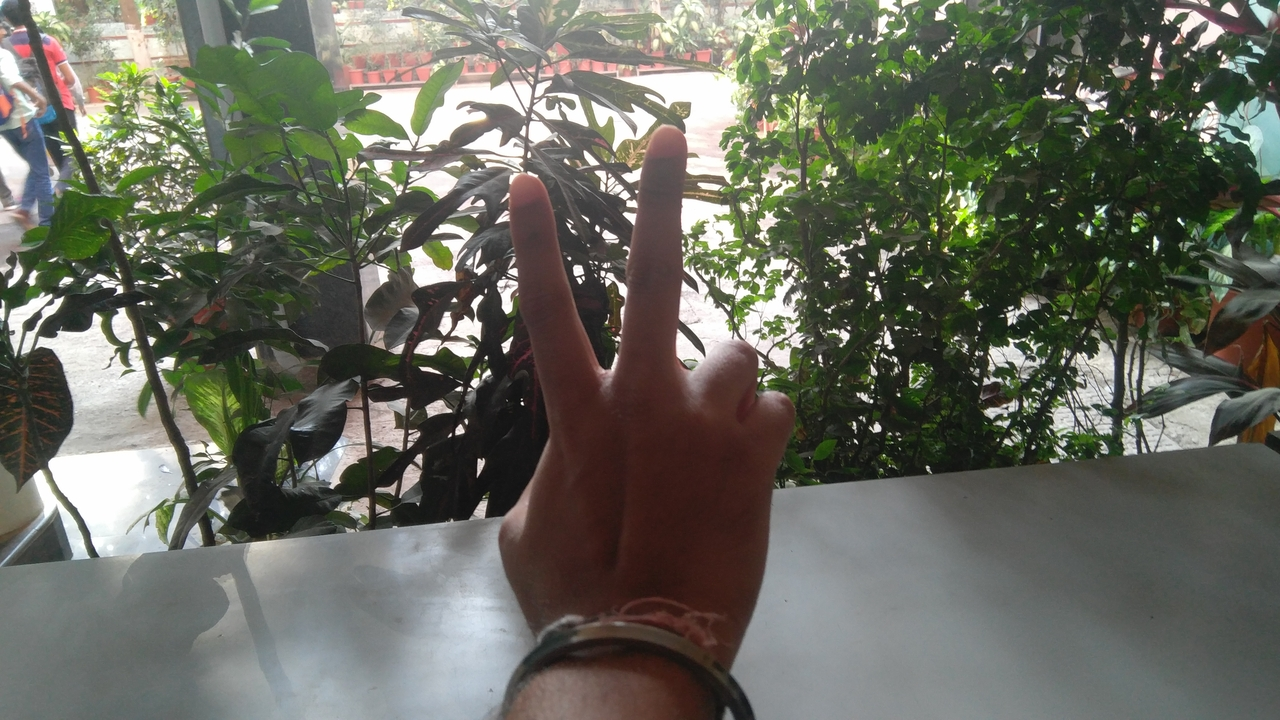fingertip: (502, 164, 552, 216), (642, 114, 690, 166)
